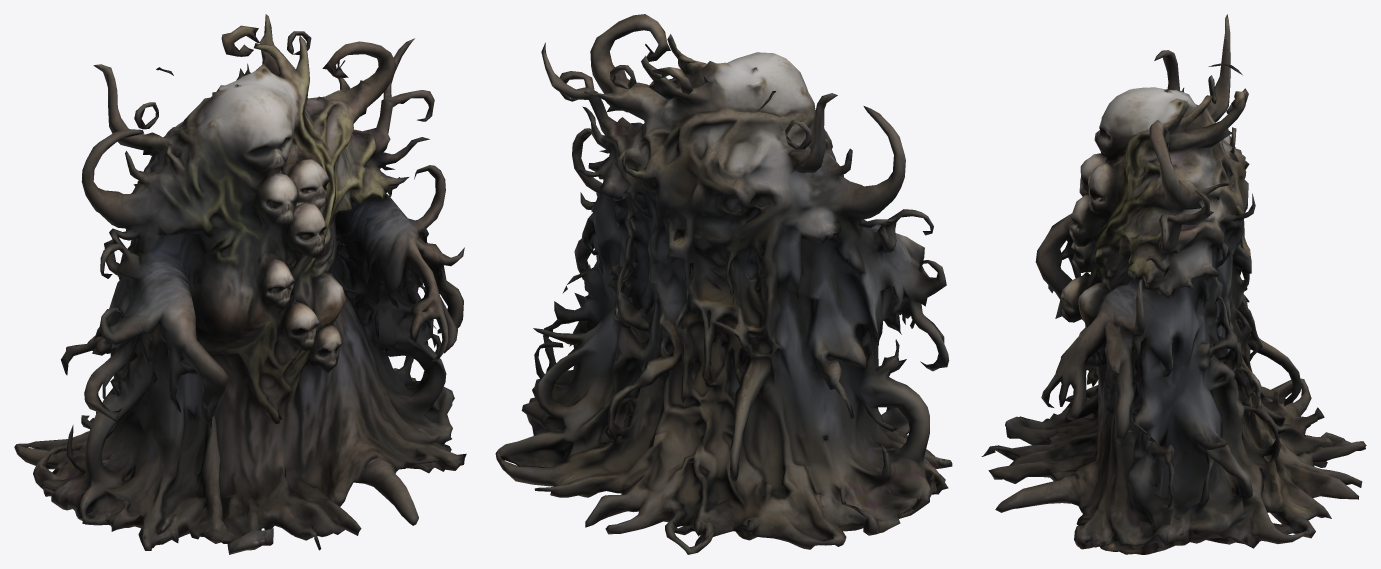
Rendered from rotbringer_lord.glb.
3 renders of one model, left to right at view 1: azimuth 30°, elevation 25°; view 2: azimuth 150°, elevation 25°; view 3: azimuth 270°, elevation 25°, orthographic. The views are drawn at different scales.
Bounding box in the file's own units: 1.96 × 2 × 1.73.
Materials: 1 (1 with a texture image).
